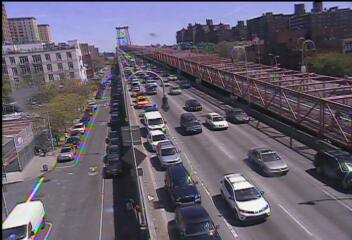neg: (17, 148, 61, 206), (193, 96, 230, 145), (232, 38, 268, 87), (105, 137, 132, 173), (116, 74, 142, 109), (289, 92, 315, 127), (20, 32, 44, 63), (65, 92, 87, 121), (114, 12, 135, 39), (262, 151, 282, 178), (218, 184, 237, 209), (173, 15, 191, 39)
